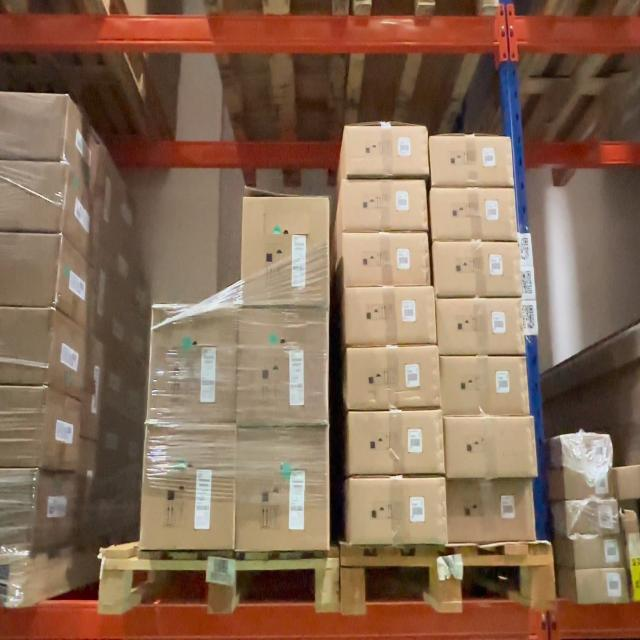box: (240, 430, 327, 548), (147, 430, 233, 547), (240, 311, 326, 425), (154, 307, 234, 423), (243, 199, 328, 306), (352, 480, 445, 536), (354, 419, 441, 472), (349, 290, 434, 344), (448, 421, 535, 473), (352, 352, 436, 404), (445, 360, 524, 410), (440, 302, 524, 349), (348, 126, 425, 176), (436, 246, 516, 294), (452, 486, 532, 534), (348, 236, 428, 282), (431, 140, 511, 183), (433, 194, 513, 237), (348, 185, 425, 228)
